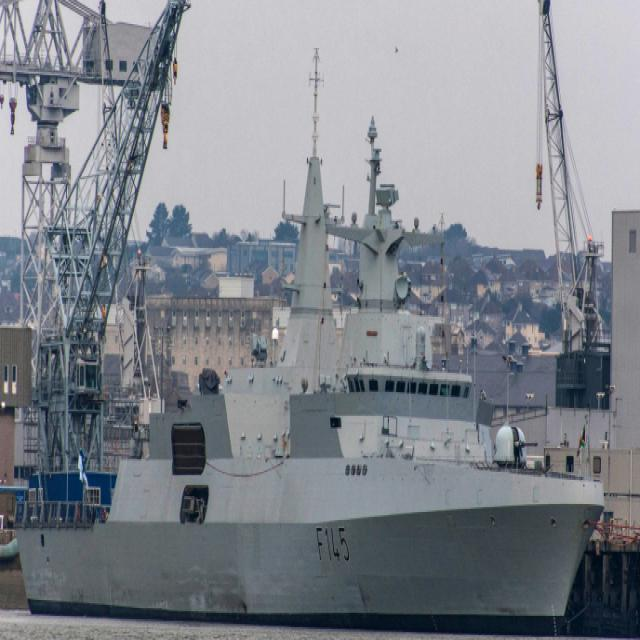Fragata: (14, 115, 607, 628)
